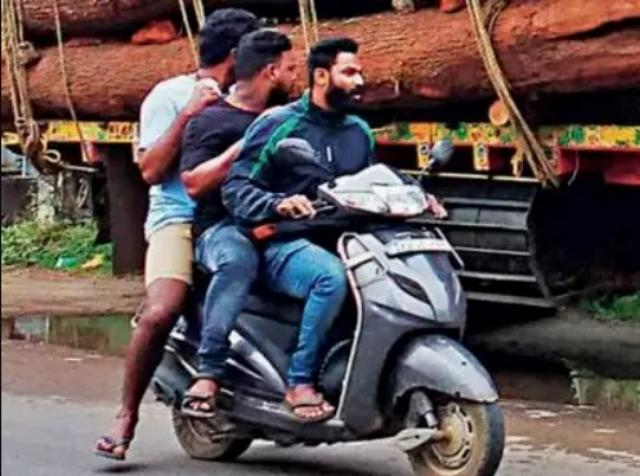licensePlate: (377, 235, 456, 262)
motorcycle: (97, 8, 516, 472)
withoutHelmet: (235, 29, 304, 106), (192, 10, 265, 80), (311, 38, 374, 109)
